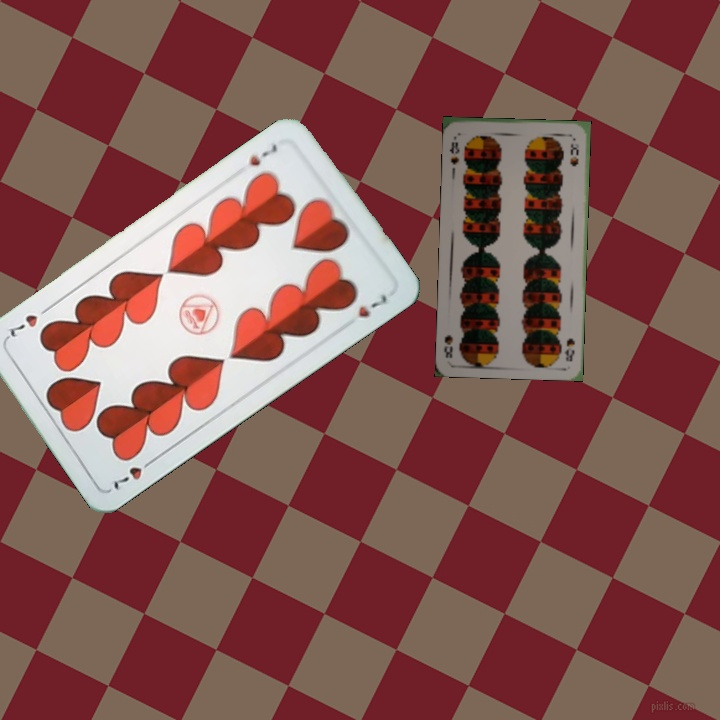H7: (109, 454, 159, 493), (245, 139, 280, 169)
S8: (445, 137, 462, 167), (561, 334, 577, 364)
